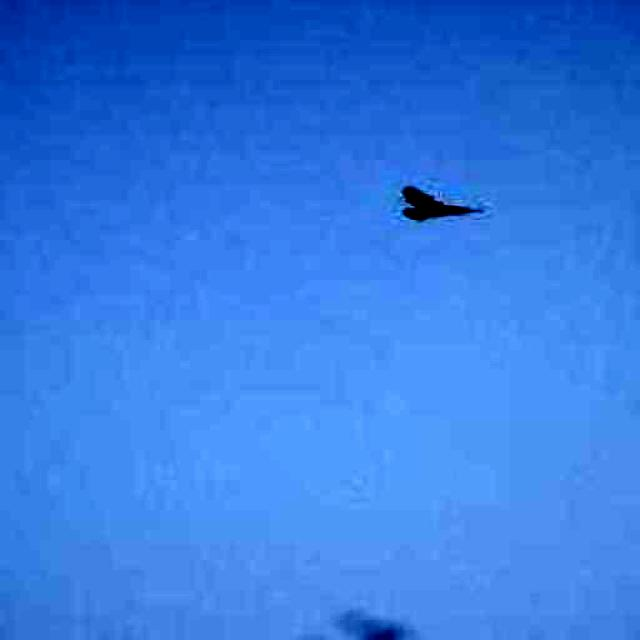airplane: (400, 184, 484, 222)
